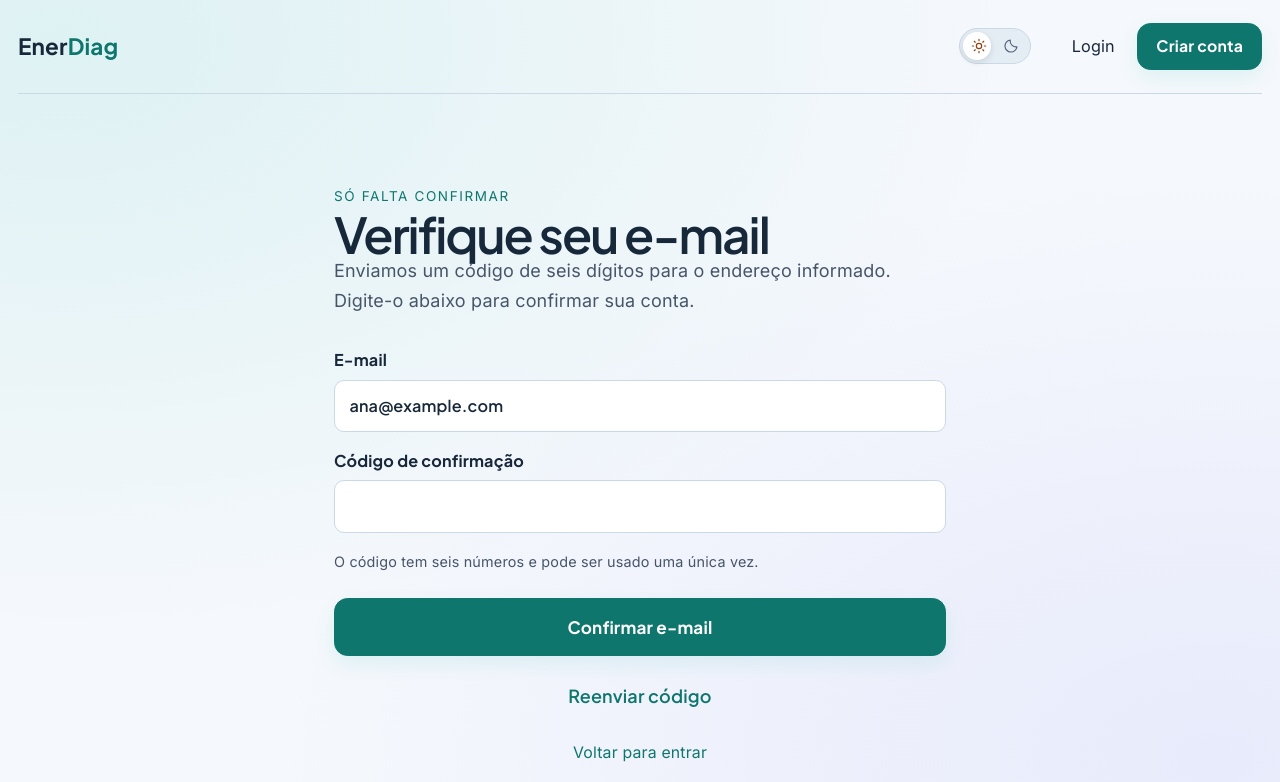
Scenario: email verification › shows an invalid code, then confirms and resends through the API
The image size is (1280, 782).
Click the button "Confirmar e-mail": {"x": 640, "y": 627} [334, 598, 946, 656]
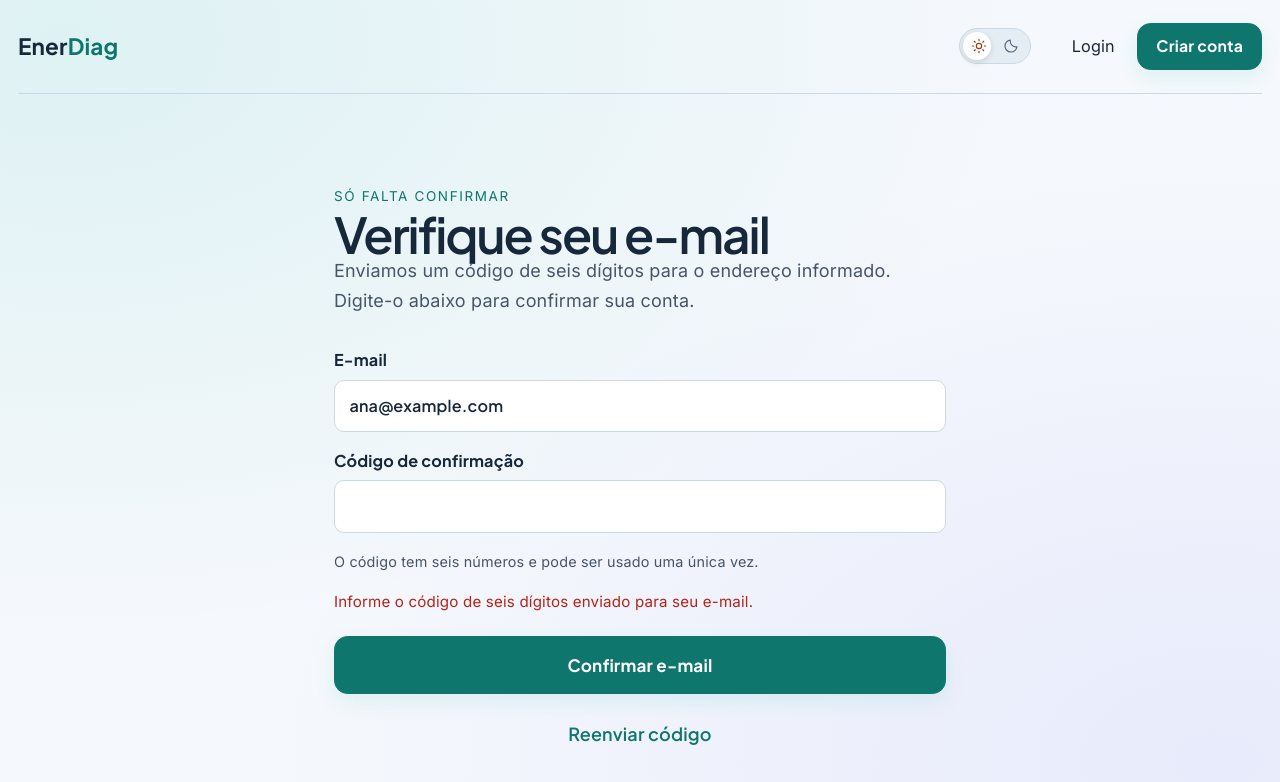
Check: the text "Informe o código de seis dígitos enviado para seu e-mail." is shown, box [334, 592, 753, 611]
In the field labelled "Código de confirmação": {"x": 640, "y": 506} [334, 480, 946, 533], type "123456"
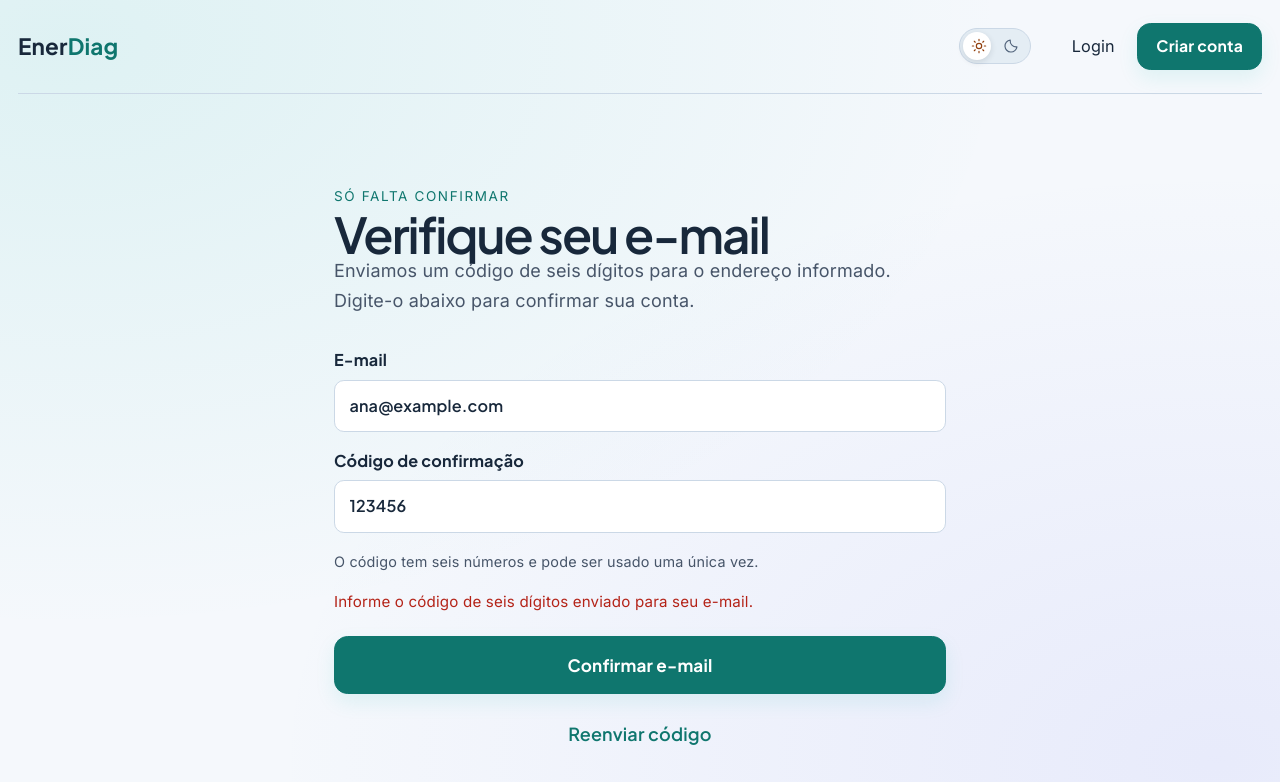
Click the button "Confirmar e-mail": {"x": 640, "y": 665} [334, 636, 946, 694]
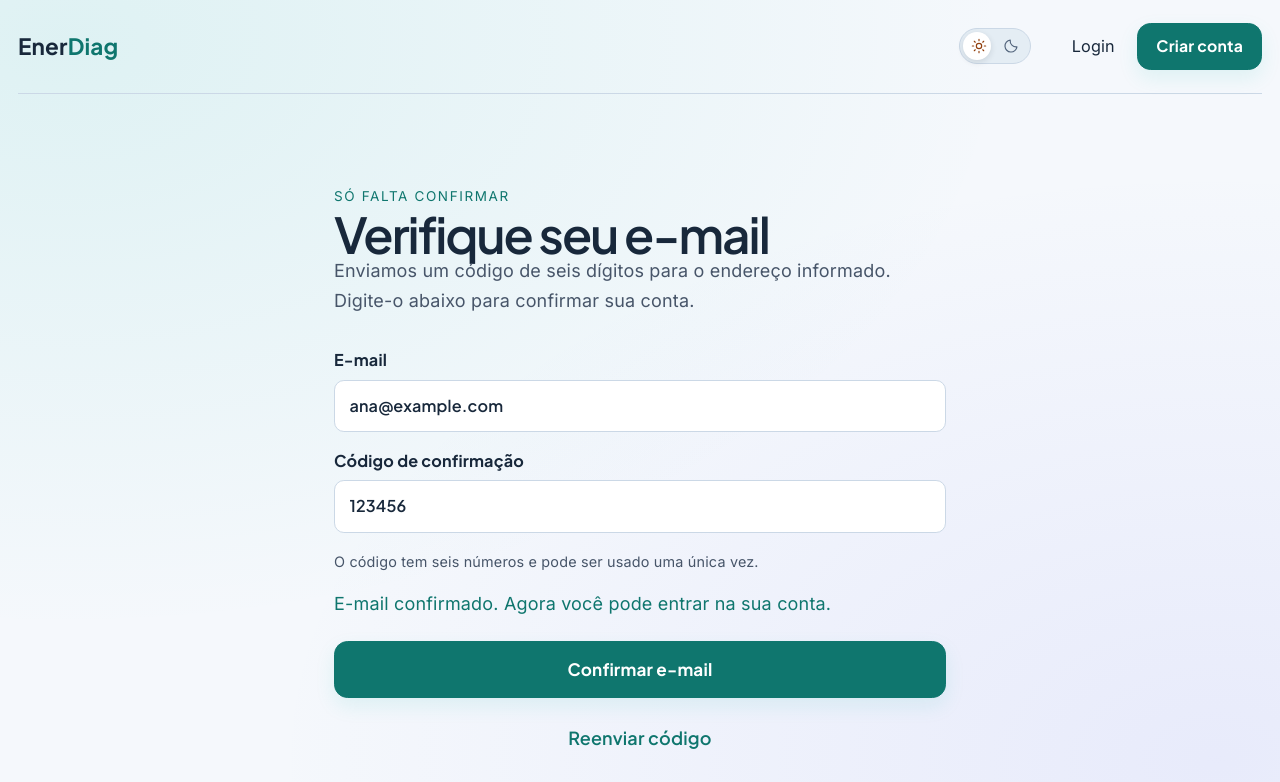
Check: the text "E-mail confirmado. Agora você pode entrar na sua conta." is shown, box [334, 593, 831, 614]
Click the button "Reenviar código": {"x": 640, "y": 738} [559, 716, 721, 760]
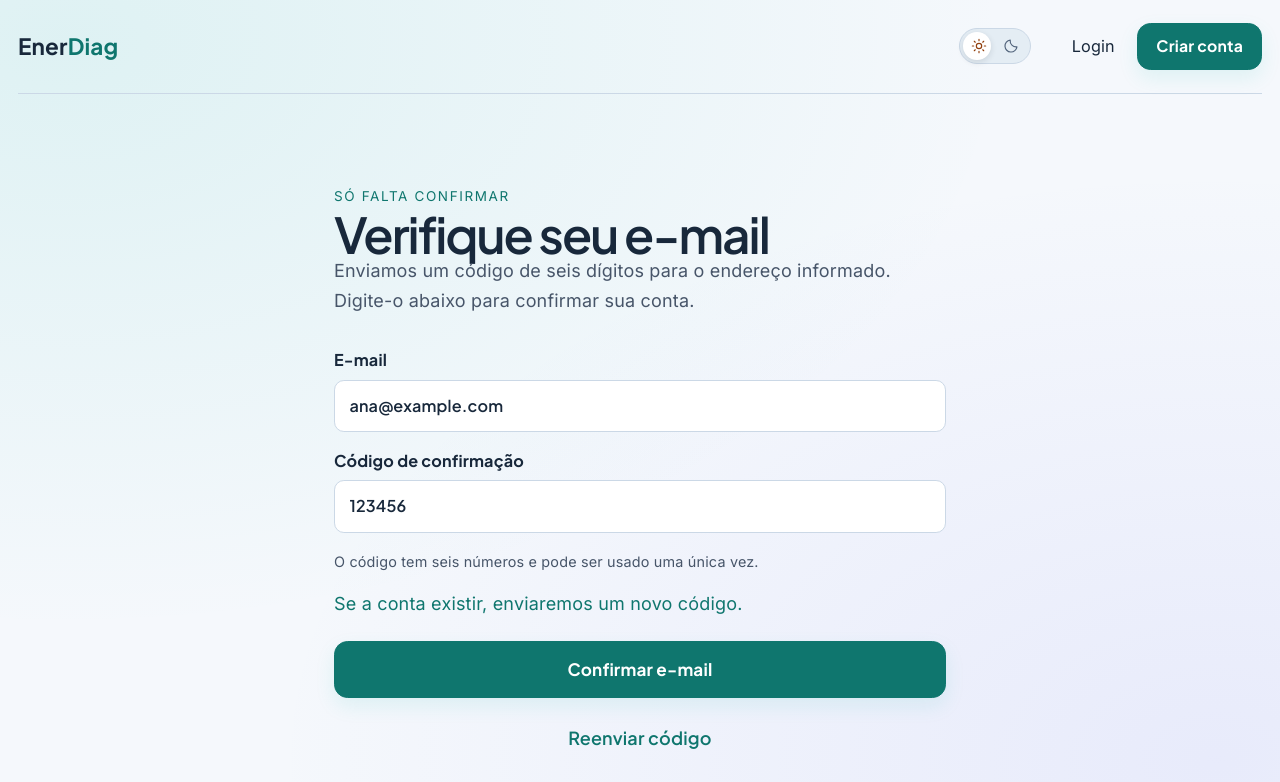
Check: the text "Se a conta existir, enviaremos um novo código." is shown, box [334, 593, 742, 614]
